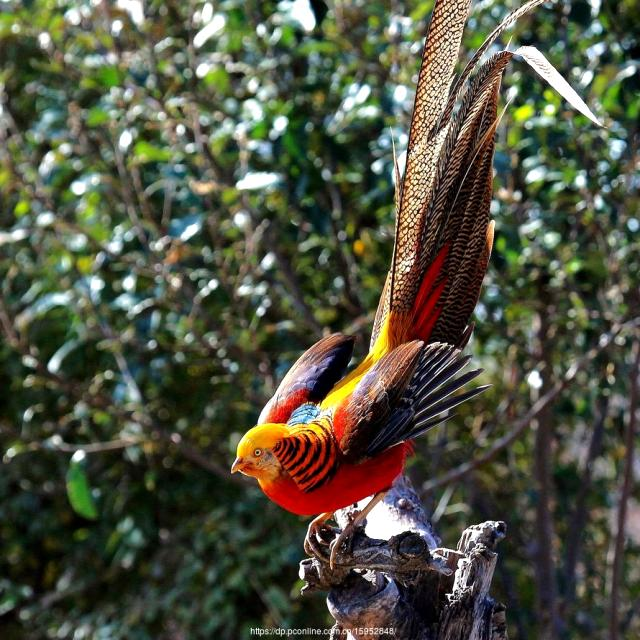Chrysolophus pictus feather: (390, 0, 600, 343)
